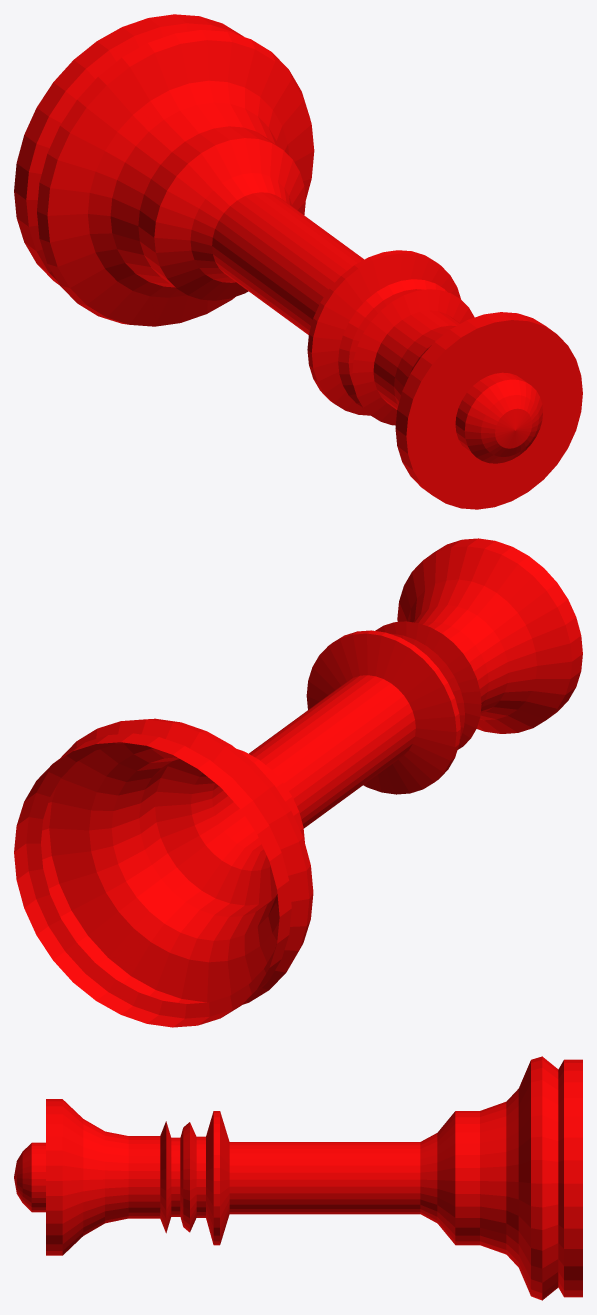
Rendered from rainhaP.obj.
3 renders of one model, top to bottom at view 1: azimuth 30°, elevation 25°; view 2: azimuth 150°, elevation 25°; view 3: azimuth 270°, elevation 25°, orthographic. The views are drawn at different scales.
Parts seen in each view (by area): view 1: Circle.001; view 2: Circle.001; view 3: Circle.001.
Boxes of the visible parts, left/top/right/bottom form: Circle.001: left=14, top=14, right=582, bottom=509; Circle.001: left=14, top=538, right=582, bottom=1027; Circle.001: left=14, top=1056, right=582, bottom=1300.
Size of the model in its own units: 1.42 by 1.42 by 3.31.
